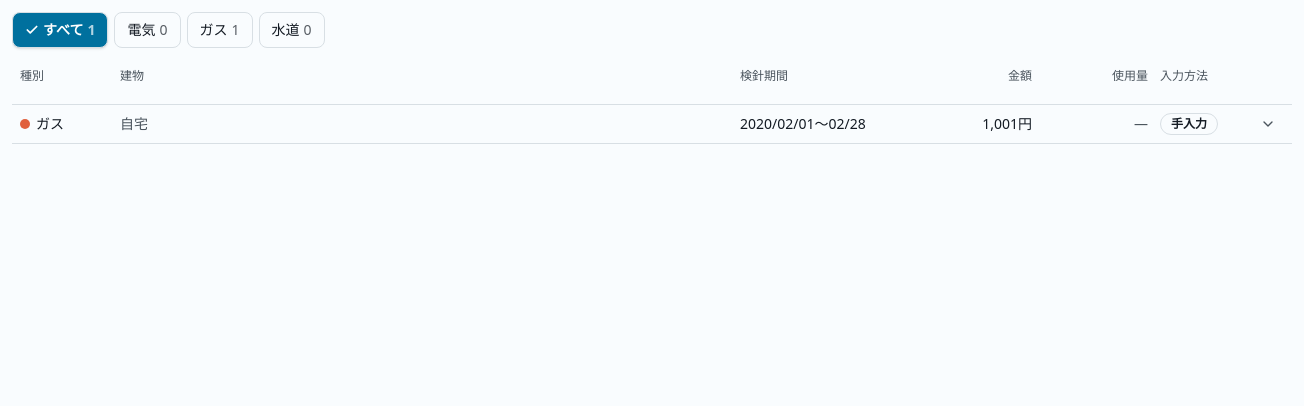
Test: RecordList › rejects an invalid 金額（円）
Click the button "ガス 自宅 2020/02/01〜02/28 1,001円 — 手入力": (803, 124) [12,105,1292,143]
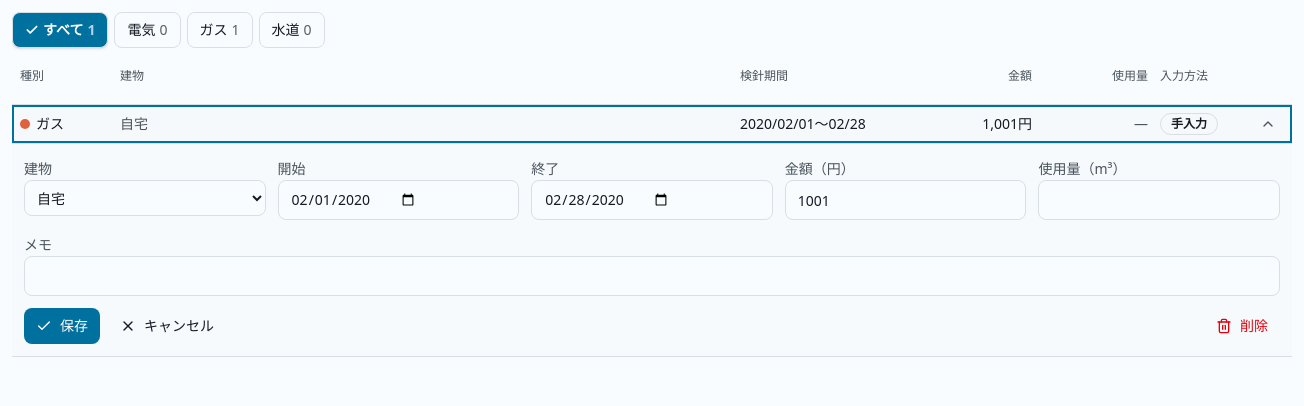
Replace the text in the field labelled "金額（円）" with "たくさん": (906, 200) [785,180,1026,220]
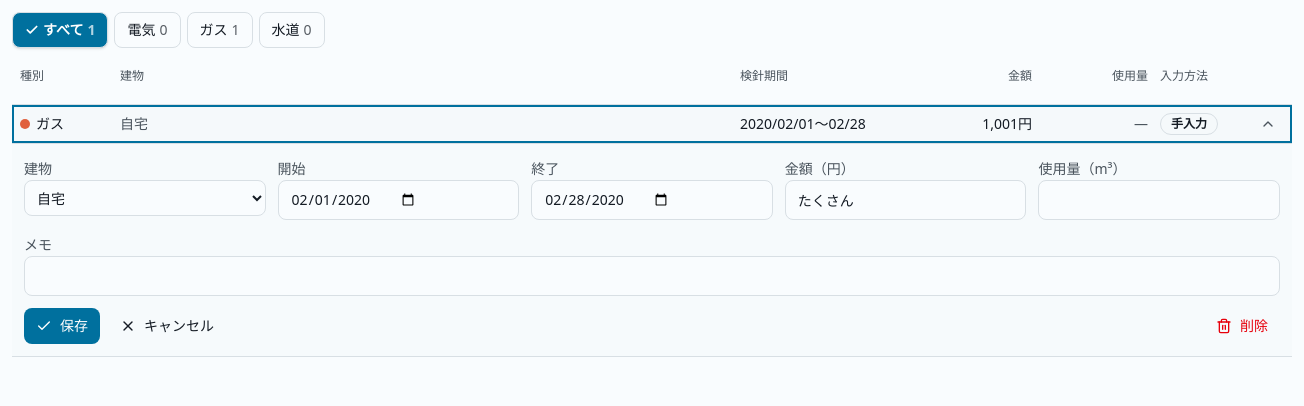
Click the button "保存": (62, 326) [24,308,100,344]
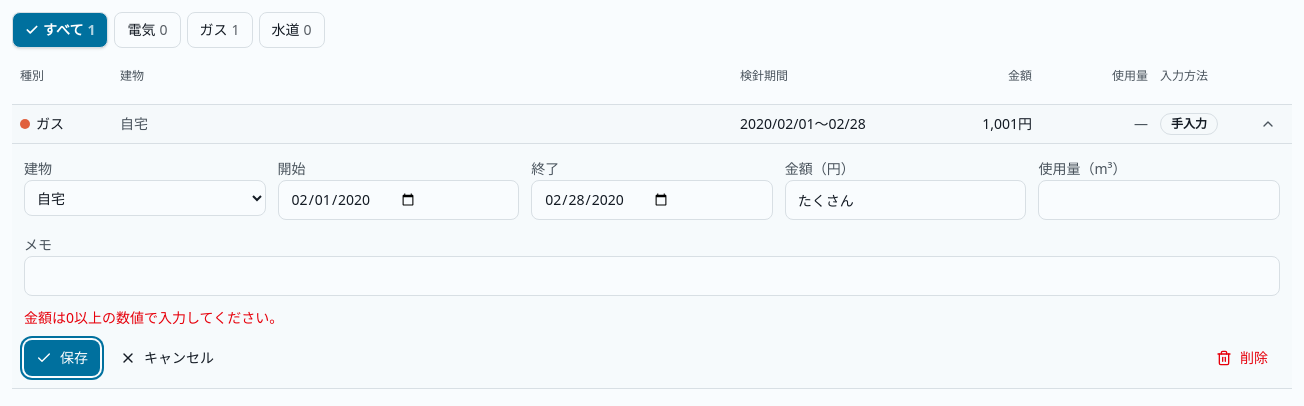
Now the message reads "金額は0以上の数値で入力してください。", box [24,308,283,327]
